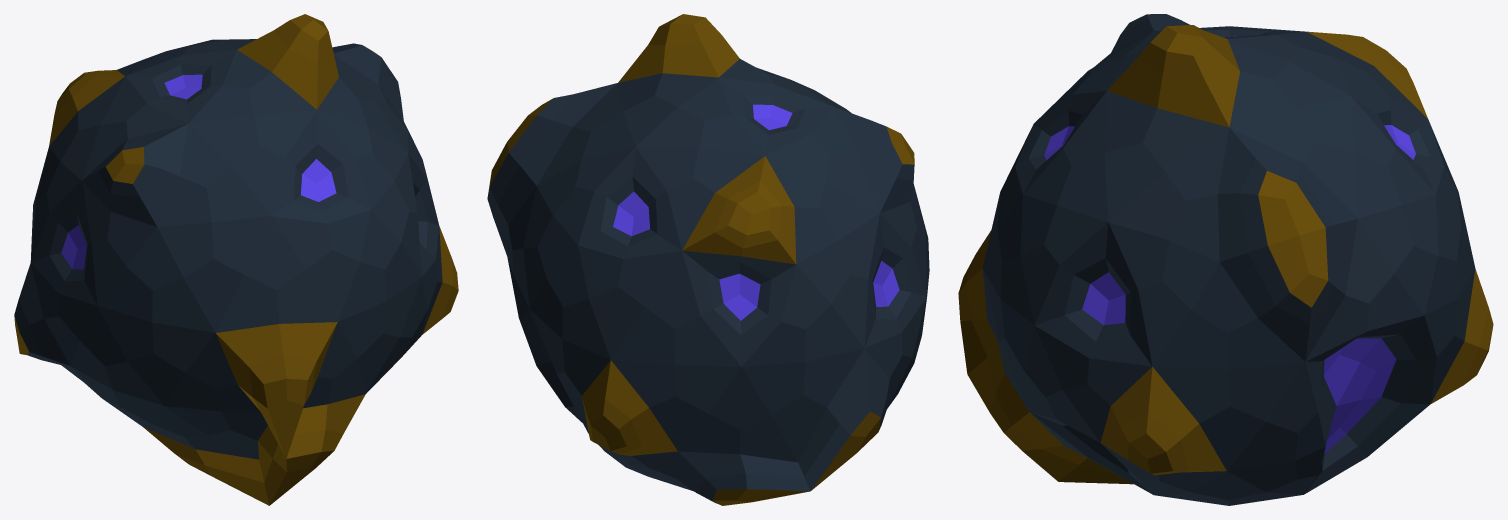
The model's file is Planet3Dest1.glb.
The picture shows the model from 3 angles, left to right: view 1: azimuth 30°, elevation 25°; view 2: azimuth 150°, elevation 25°; view 3: azimuth 270°, elevation 25°; orthographic projection. The views are drawn at different scales.
Visible parts, largest first — view 1: Icosphere.063; view 2: Icosphere.063; view 3: Icosphere.063.
Part boxes in pixels (x1,y1,x2,y2): Icosphere.063: [14, 14, 458, 505]; Icosphere.063: [487, 14, 929, 505]; Icosphere.063: [958, 14, 1493, 505].
Bounding box in the file's own units: 1.85 × 2 × 1.93.
